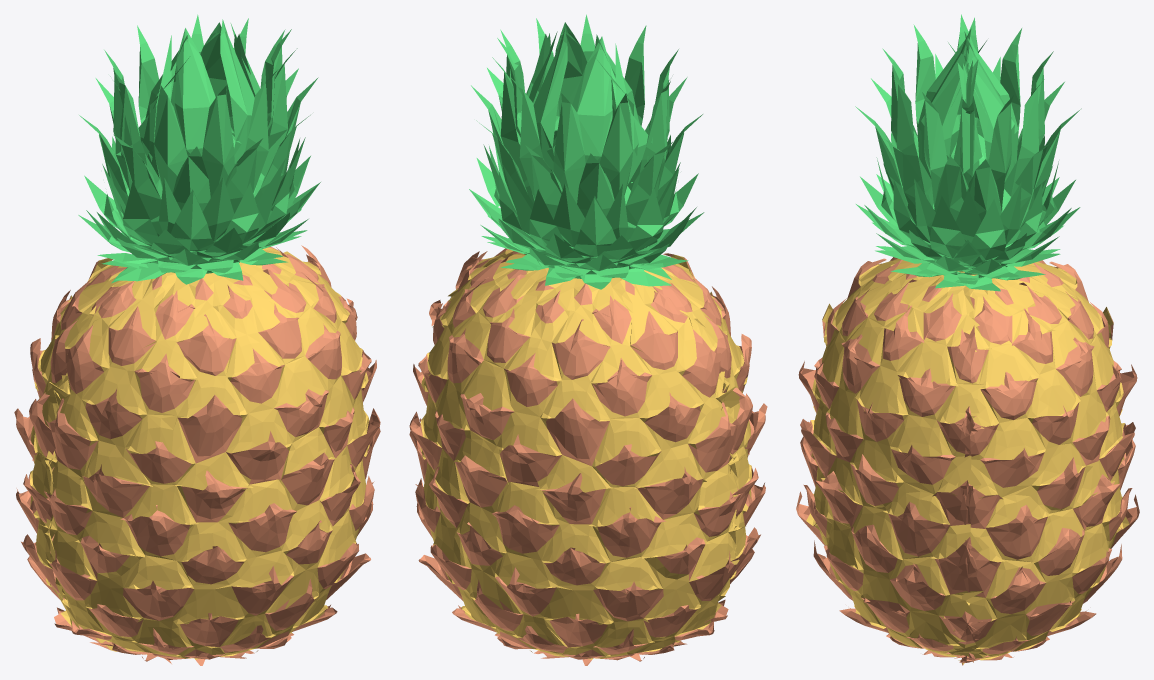
File: pineapple.fbx
3 renders of one model, left to right at view 1: azimuth 30°, elevation 25°; view 2: azimuth 150°, elevation 25°; view 3: azimuth 270°, elevation 25°, orthographic. The views are drawn at different scales.
Visible parts, largest first — view 1: Pineapple; view 2: Pineapple; view 3: Pineapple.
Part boxes in pixels (x1,y1,x2,y2): Pineapple: (14,14,380,665); Pineapple: (409,14,767,665); Pineapple: (796,14,1139,665).
Size of the model in its own units: 119 by 213 by 110.
